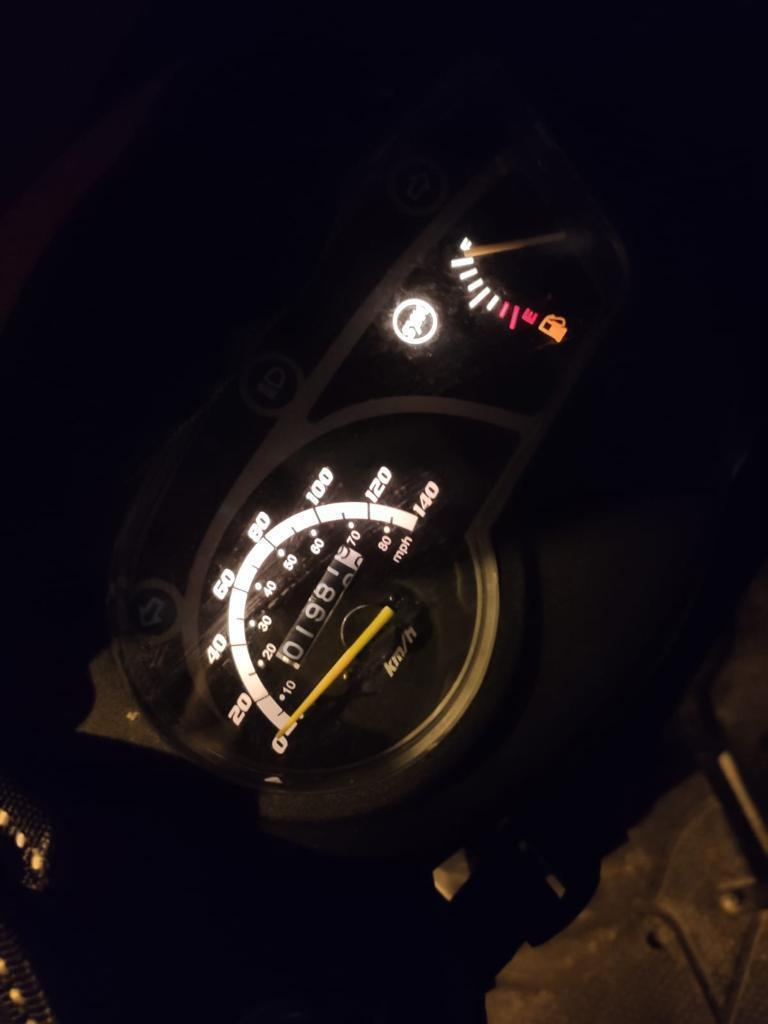0: (281, 640, 303, 659), (286, 553, 297, 563), (313, 540, 325, 546), (270, 643, 278, 652), (270, 580, 276, 590)
1: (293, 623, 313, 638), (323, 564, 341, 578)
5: (282, 560, 294, 570)
6: (308, 544, 320, 554)
8: (313, 583, 335, 601)
9: (303, 602, 325, 620), (334, 543, 350, 558)
odometer: (270, 540, 370, 674)
